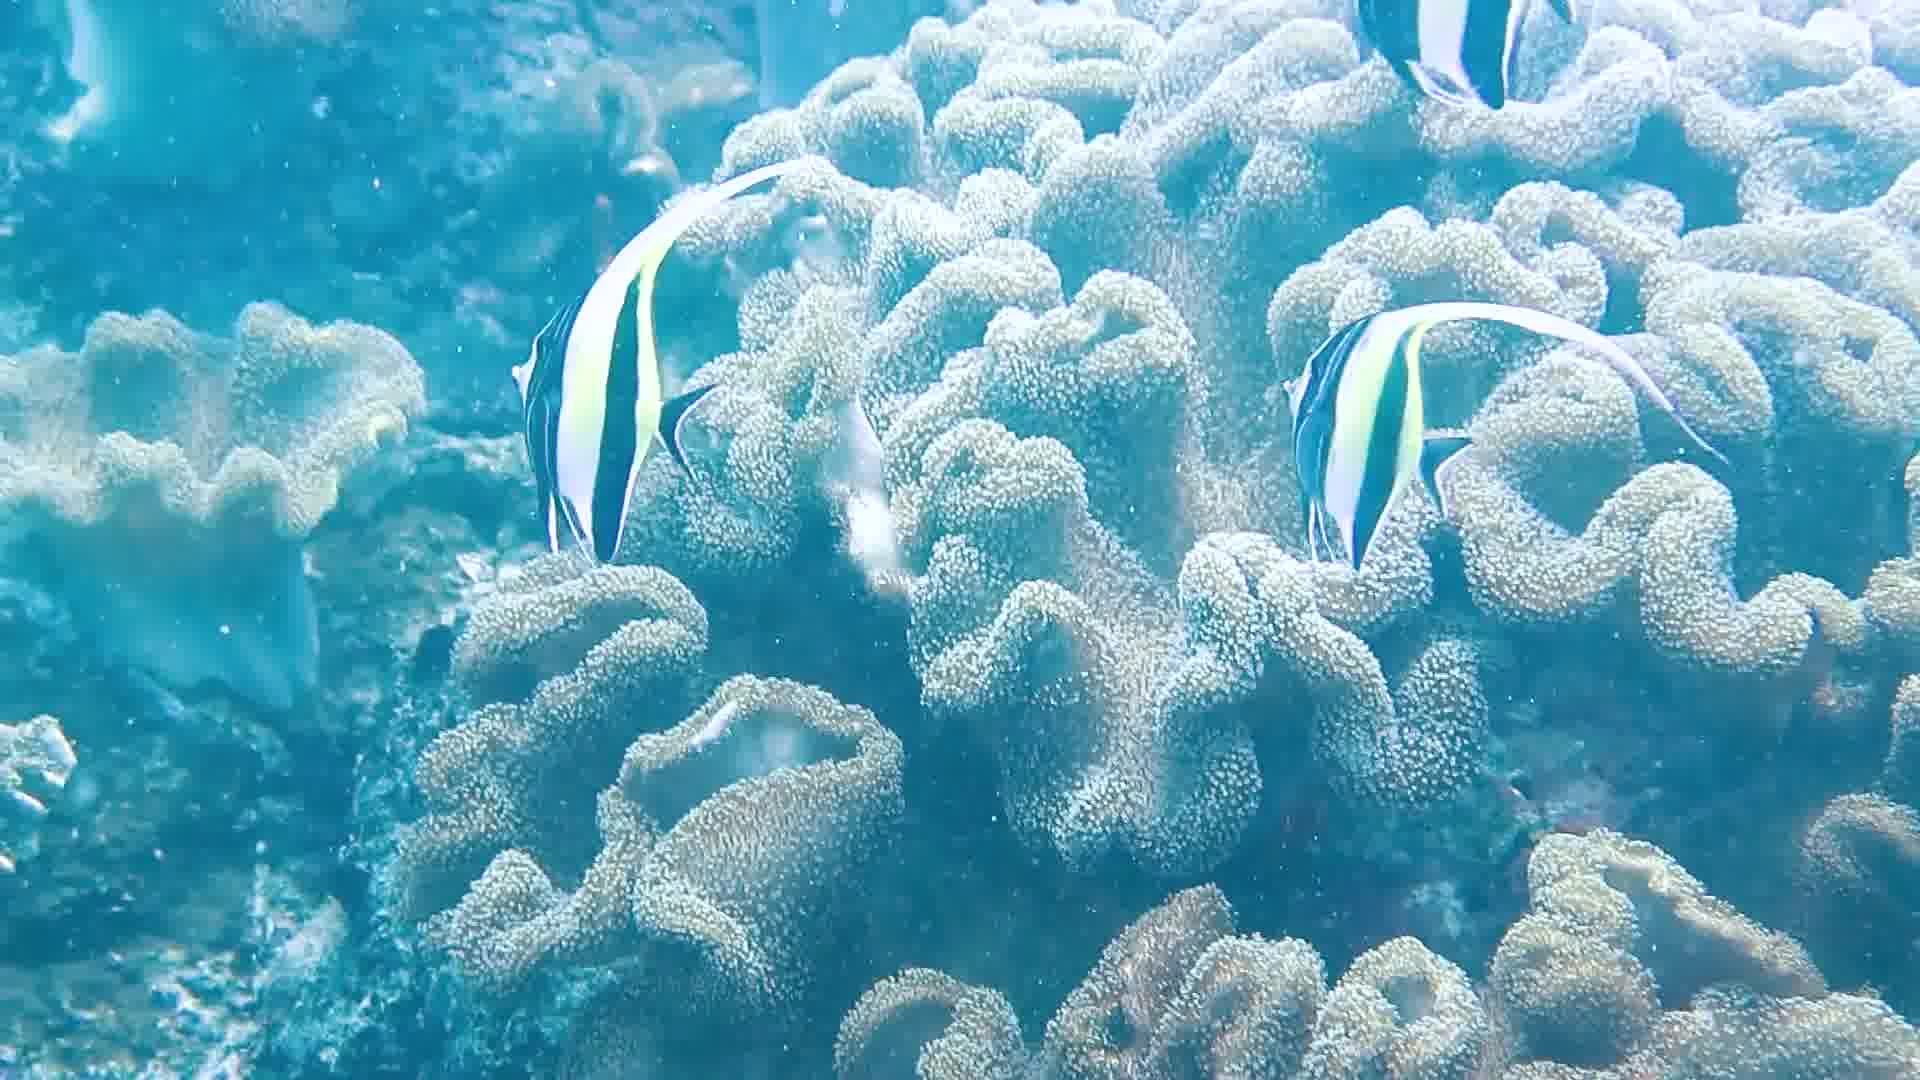Zanclus cornutus: (468, 235, 758, 568), (1240, 268, 1528, 601)
